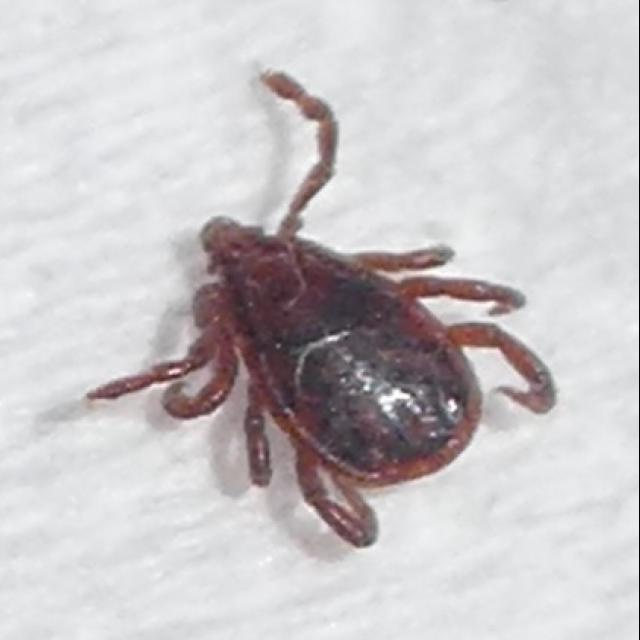Rhipicephalus Sanguineus-M: (83, 68, 557, 551)
